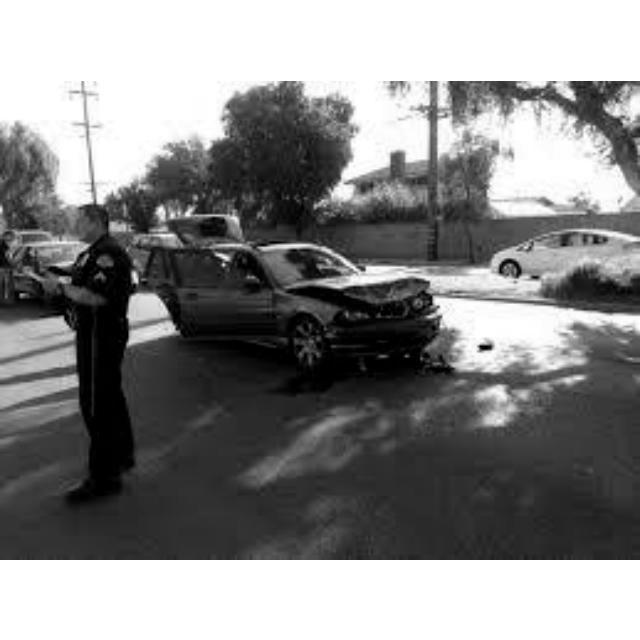bonnet-dent: (294, 268, 432, 302)
